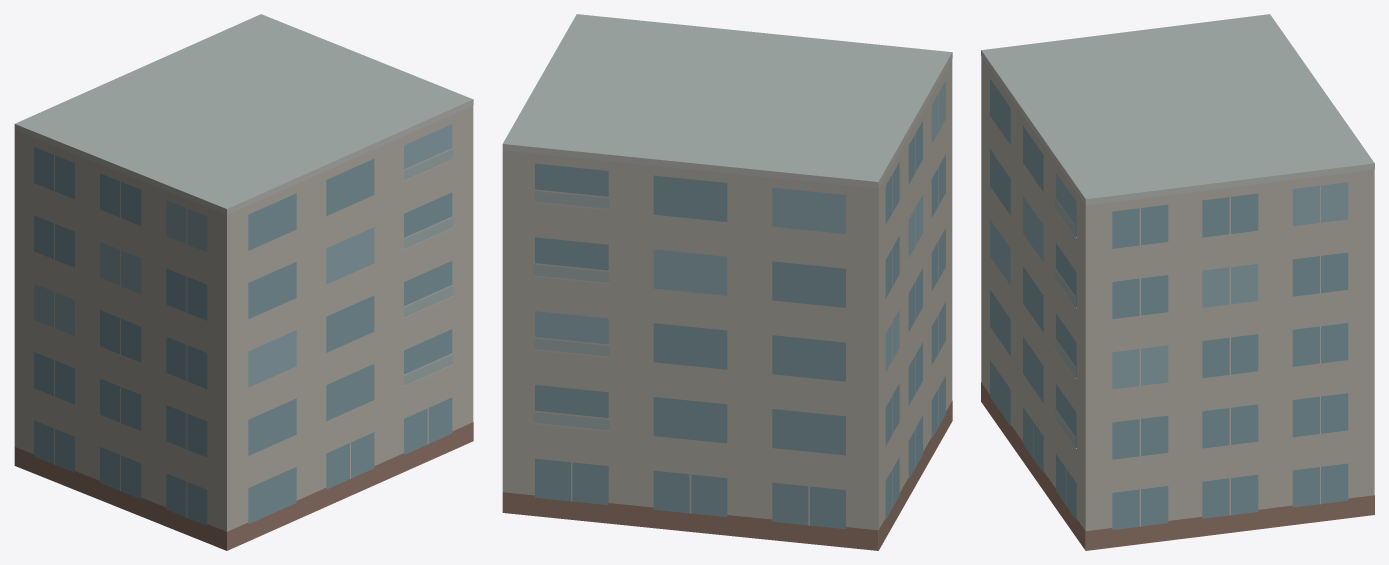
The model's file is survey-upis-32979109.glb.
3 renders of one model, left to right at view 1: azimuth 30°, elevation 25°; view 2: azimuth 150°, elevation 25°; view 3: azimuth 270°, elevation 25°, orthographic. The views are drawn at different scales.
Parts seen in each view (by area): view 1: survey-upis-32979109.tmp; view 2: survey-upis-32979109.tmp; view 3: survey-upis-32979109.tmp.
Part boxes in pixels (bbox=[...]): survey-upis-32979109.tmp: bbox=[14, 14, 473, 550]; survey-upis-32979109.tmp: bbox=[502, 14, 952, 550]; survey-upis-32979109.tmp: bbox=[981, 14, 1374, 550].
Bounding box in the file's own units: 15.84 × 14 × 14.22.
